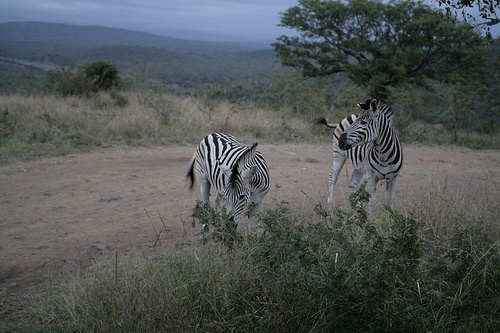zebra: (360, 158, 449, 276), (229, 180, 311, 275)
